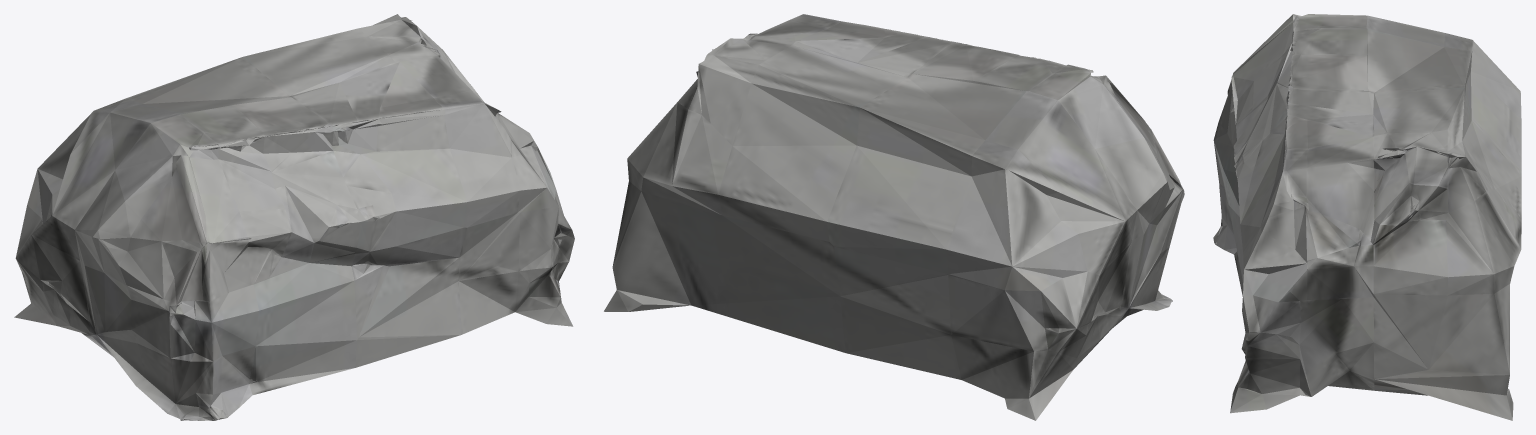
3 views of the same model, side by side, from view 1: azimuth 30°, elevation 25°; view 2: azimuth 150°, elevation 25°; view 3: azimuth 270°, elevation 25° (orthographic). The views are drawn at different scales.
Visible parts, largest first — view 1: geometry_0; view 2: geometry_0; view 3: geometry_0.
Boxes of the visible parts, x1=… form: geometry_0: x1=14, y1=14, x2=574, y2=420; geometry_0: x1=604, y1=14, x2=1184, y2=420; geometry_0: x1=1213, y1=14, x2=1521, y2=420.
Size of the model in its own units: 1.01 by 0.5319 by 0.6204.
1 material, 1 textured.
